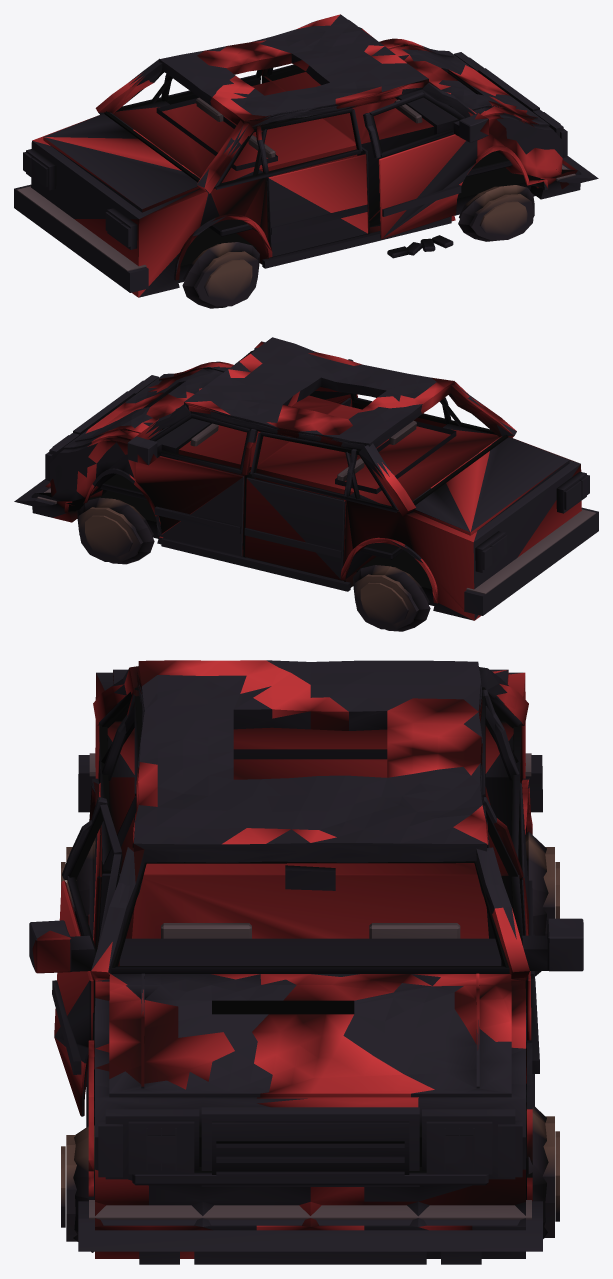
The model's file is model.burned.glb.
3 renders of one model, top to bottom at view 1: azimuth 30°, elevation 25°; view 2: azimuth 150°, elevation 25°; view 3: azimuth 270°, elevation 25°, orthographic. The views are drawn at different scales.
Visible parts, largest first — view 1: body_pal_uiDark, body_pal_survivorRed, wheelRL_pal_sidewalk, wheelFL_pal_sidewalk, body_pal_sidewalk; view 2: body_pal_uiDark, body_pal_survivorRed, wheelRR_pal_sidewalk, wheelFR_pal_sidewalk, body_pal_sidewalk; view 3: body_pal_uiDark, body_pal_survivorRed, body_pal_sidewalk, wheelFR_pal_sidewalk, wheelFL_pal_sidewalk, wheelRR_pal_sidewalk, wheelRL_pal_sidewalk.
Boxes of the visible parts, left/top/right/bottom form: body_pal_uiDark: left=14, top=14, right=598, bottom=297; body_pal_survivorRed: left=32, top=14, right=577, bottom=297; wheelRL_pal_sidewalk: left=182, top=242, right=259, bottom=308; wheelFL_pal_sidewalk: left=458, top=185, right=534, bottom=241; body_pal_sidewalk: left=17, top=97, right=575, bottom=271; body_pal_uiDark: left=14, top=337, right=598, bottom=620; body_pal_survivorRed: left=45, top=341, right=581, bottom=620; wheelRR_pal_sidewalk: left=353, top=565, right=430, bottom=631; wheelFR_pal_sidewalk: left=77, top=497, right=154, bottom=564; body_pal_sidewalk: left=37, top=420, right=595, bottom=594; body_pal_uiDark: left=29, top=660, right=583, bottom=1264; body_pal_survivorRed: left=32, top=660, right=532, bottom=1258; body_pal_sidewalk: left=89, top=753, right=531, bottom=1219; wheelFR_pal_sidewalk: left=526, top=1102, right=559, bottom=1238; wheelFL_pal_sidewalk: left=61, top=1124, right=94, bottom=1252; wheelRR_pal_sidewalk: left=525, top=831, right=559, bottom=976; wheelRL_pal_sidewalk: left=61, top=837, right=95, bottom=935.
Size of the model in its own units: 4.52 by 1.58 by 2.32.
